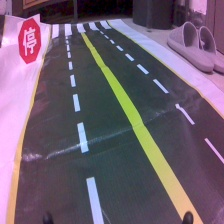stop: (15, 12, 44, 68)
